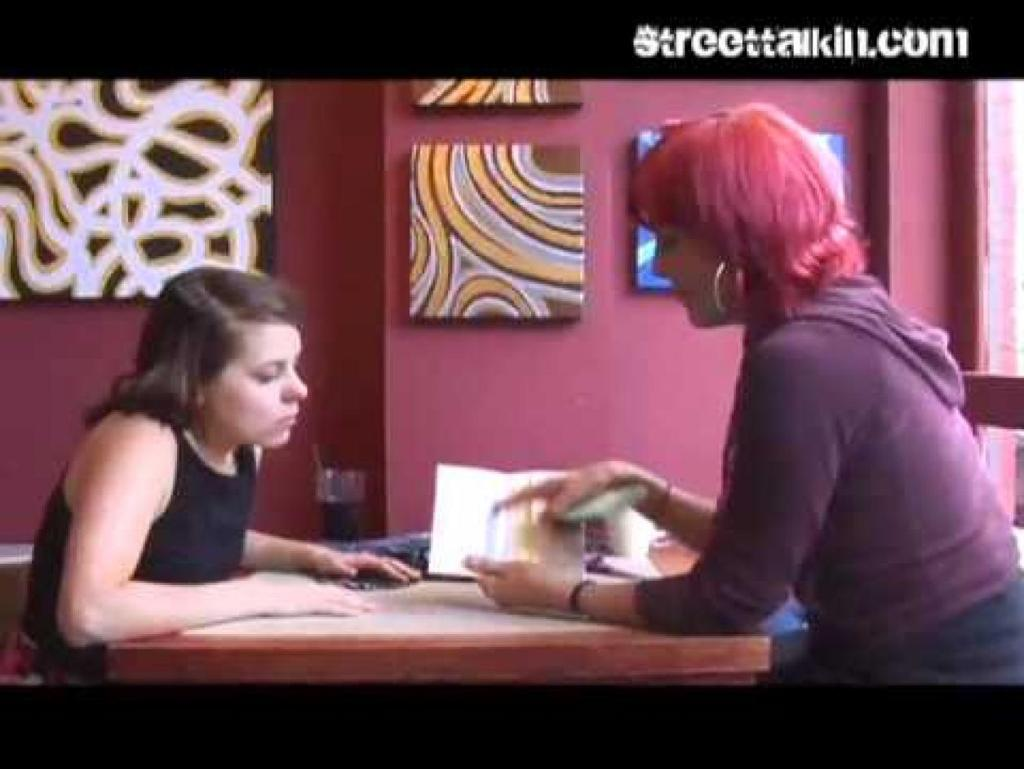face: (642, 192, 746, 324), (206, 328, 312, 446)
